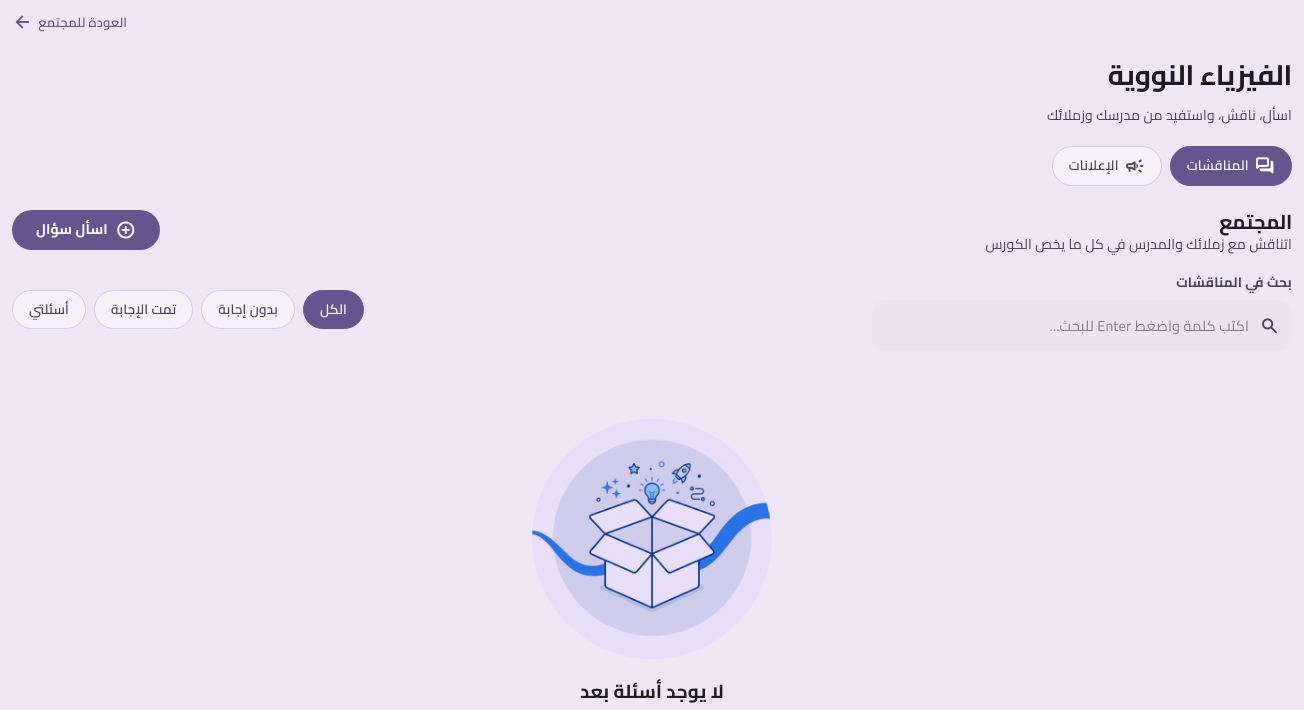
StudentCourseCommunityPage › switches to the announcements tab
Click the tab "الإعلانات". click: (1107, 166)
box: [1052, 146, 1162, 186]
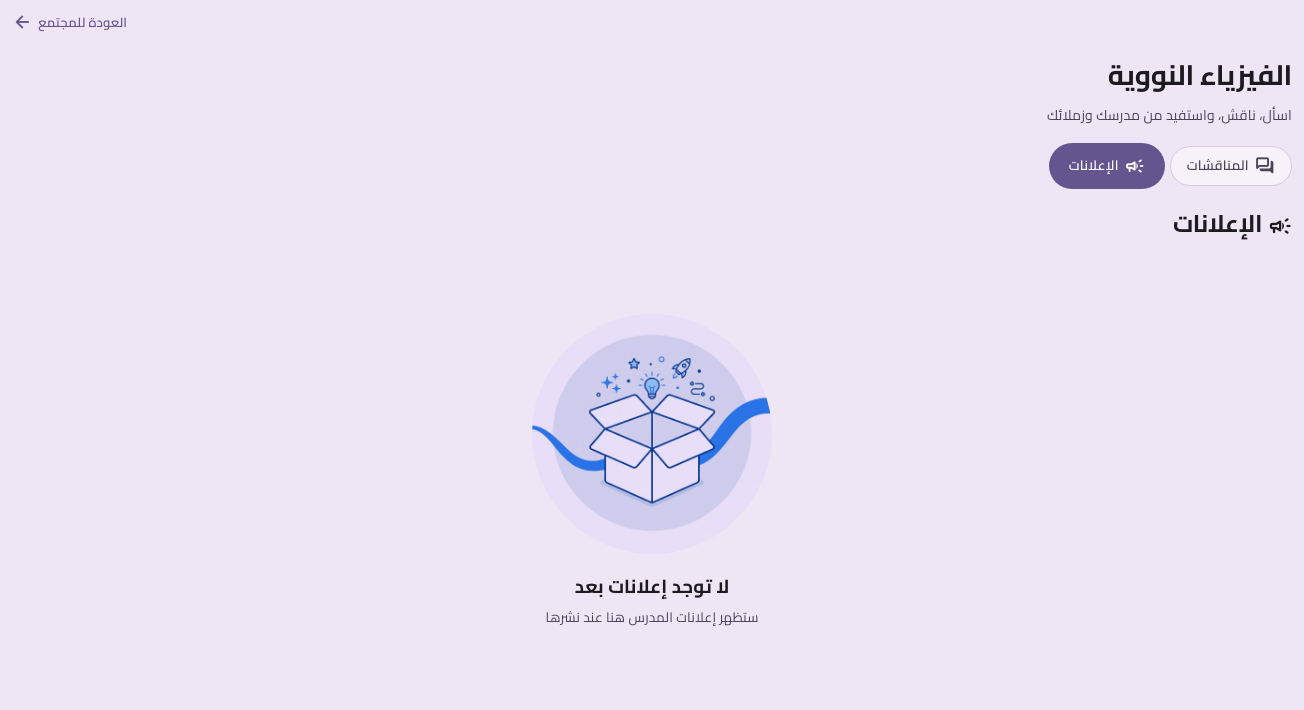
Check: the heading "لا توجد إعلانات بعد" is shown, box [575, 569, 729, 604]
